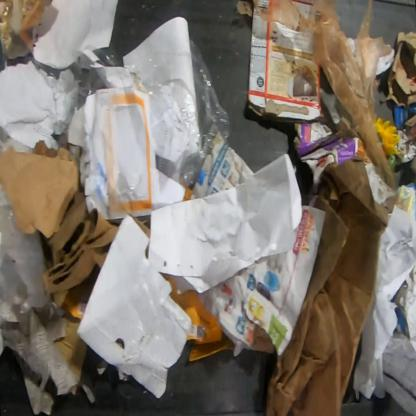cardboard: (263, 161, 390, 415), (76, 213, 192, 400), (0, 138, 121, 293), (247, 0, 324, 122), (292, 120, 396, 204), (385, 29, 415, 127), (380, 182, 415, 227), (292, 0, 315, 21), (0, 30, 7, 79)
soft_plastic: (252, 0, 396, 192), (123, 39, 230, 187), (0, 180, 67, 324), (63, 35, 123, 126)
